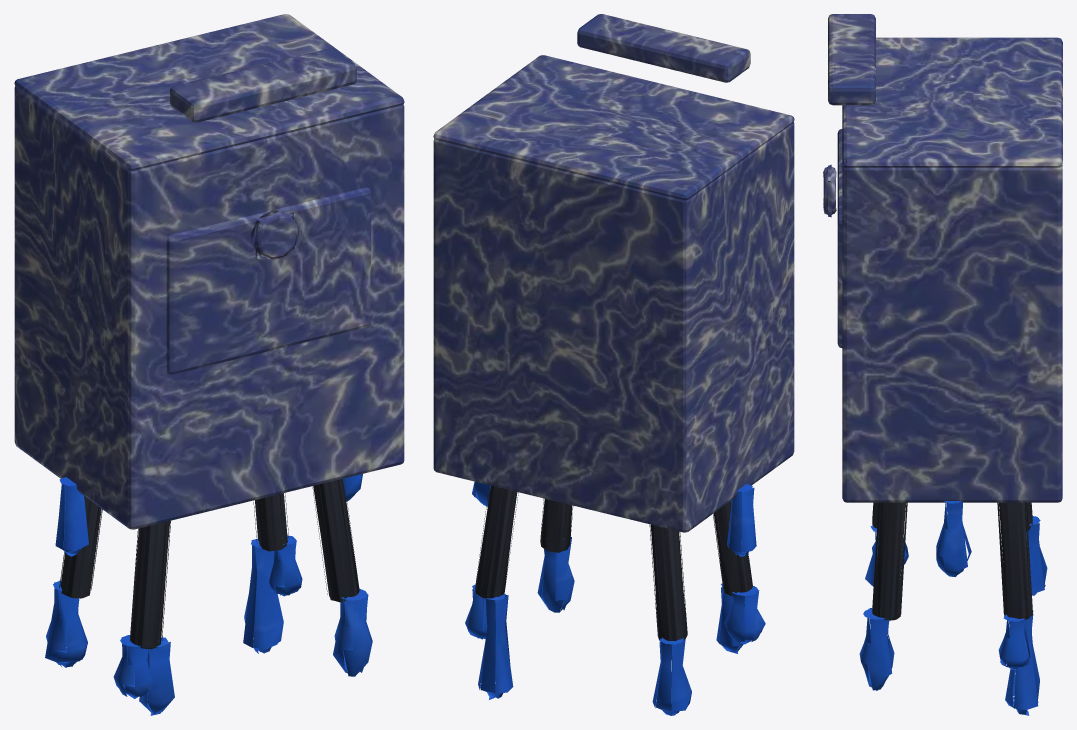
File: mailbox.glb
The picture shows the model from 3 angles, left to right: view 1: azimuth 30°, elevation 25°; view 2: azimuth 150°, elevation 25°; view 3: azimuth 270°, elevation 25°; orthographic projection. The views are drawn at different scales.
Parts seen in each view (by area): view 1: mailbox; view 2: mailbox; view 3: mailbox.
Boxes of the visible parts, x1,y1,x2,y2 form: mailbox: (14,14,404,715); mailbox: (433,14,794,715); mailbox: (823,14,1062,715).
Size of the model in its own units: 0.6335 by 1.35 by 0.4693.
1 material, 1 textured.
